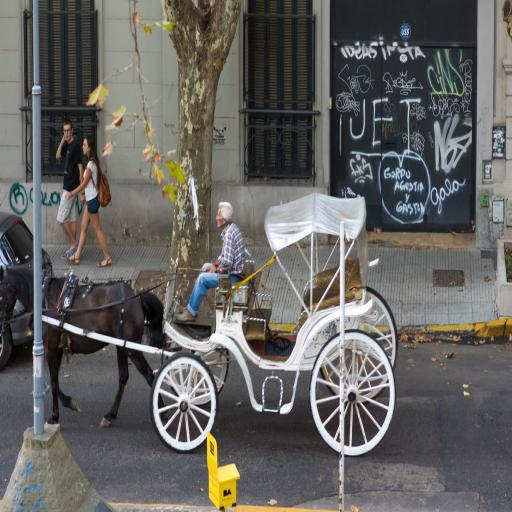Horse: (0, 264, 168, 429)
